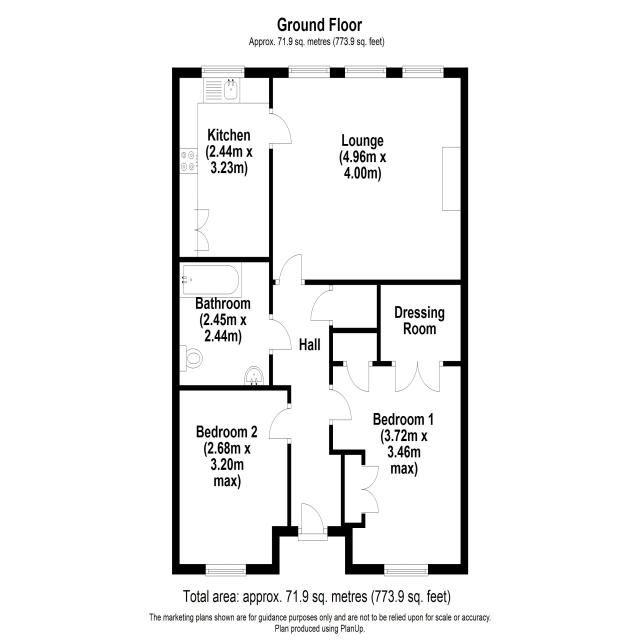DOOR: (345, 360, 370, 394), (267, 407, 292, 441), (309, 288, 333, 323), (328, 388, 353, 421), (268, 318, 293, 351), (278, 252, 303, 285), (269, 112, 293, 146), (301, 501, 325, 535)
DOUBLE DOOR: (394, 361, 441, 394), (361, 464, 379, 514)
ROOM: (268, 64, 469, 286), (328, 360, 468, 577), (172, 65, 293, 263), (172, 385, 291, 577)
WINDOW: (384, 563, 429, 577), (201, 65, 245, 79), (288, 65, 331, 79), (344, 65, 387, 79), (402, 65, 444, 79), (205, 563, 247, 577)
